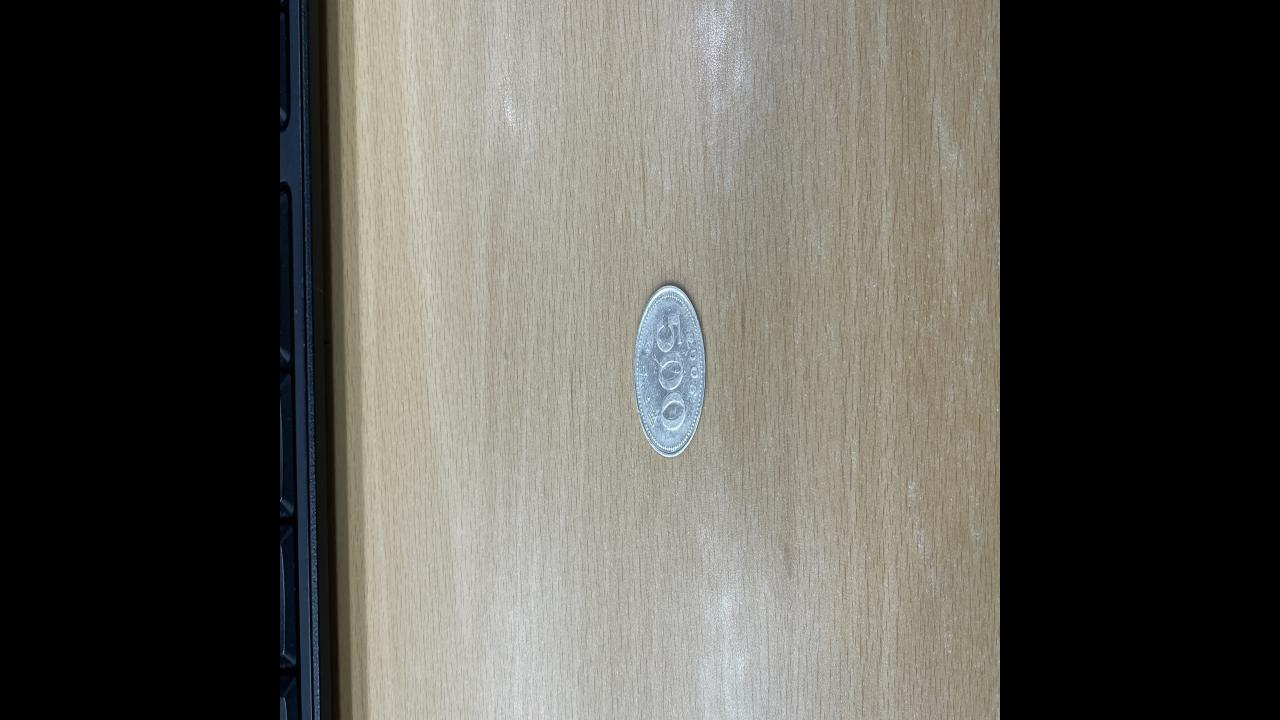coin: (632, 279, 706, 461)
